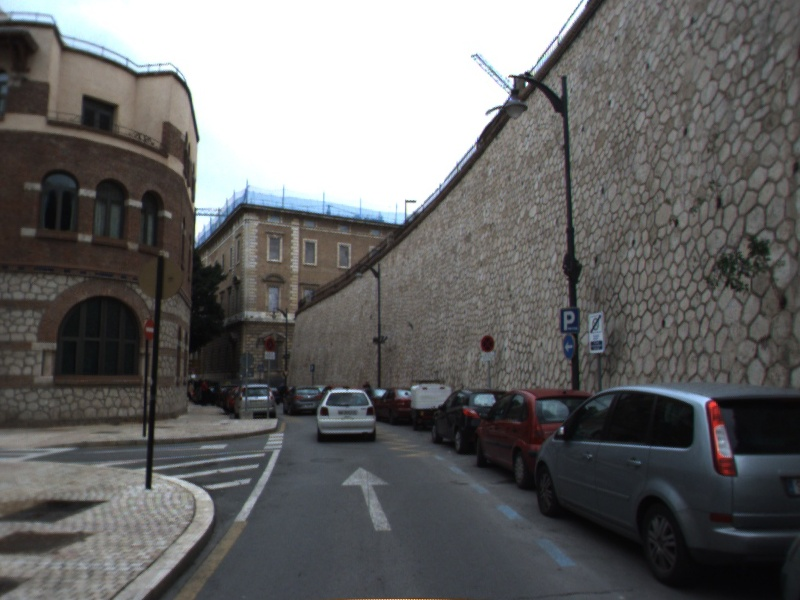STRAIGHT: (340, 465, 393, 533)
